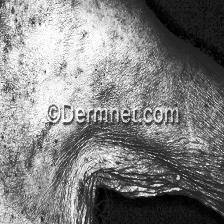Non-Cancerous Skin Condition: (68, 125, 151, 195)
